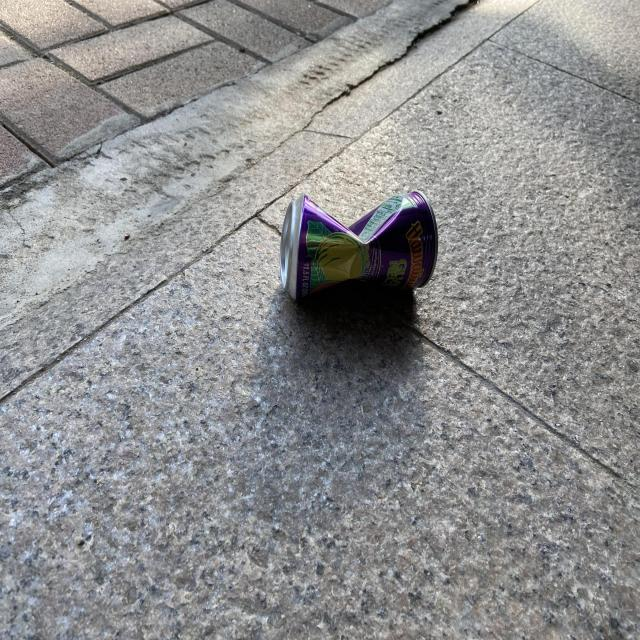can: (280, 190, 438, 298)
